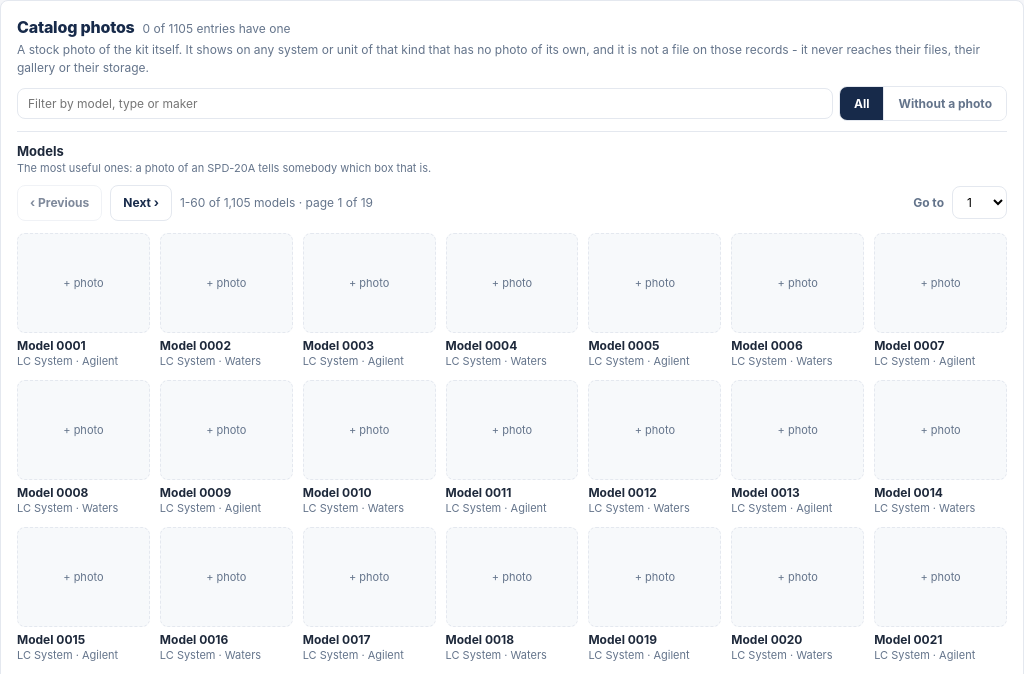
Test: the photos card, which was the taller of the two › still collapses the control when a filter leaves one page
The width and height of the screenshot is (1024, 674).
Type "Model 1105" into the field with placeholder "Filter by model, type or maker" at coordinates (425, 104), box [17,88,833,119]
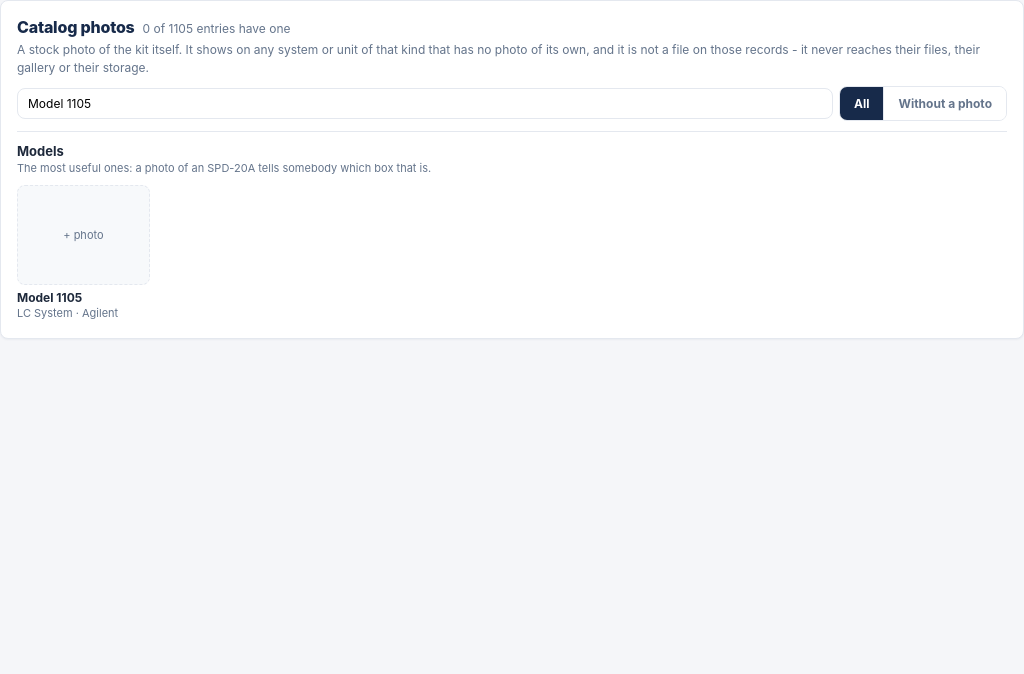
Result: the number of buttons "+ photo" is 1 at [17,185,150,285]
Result: the button "Next" is gone
